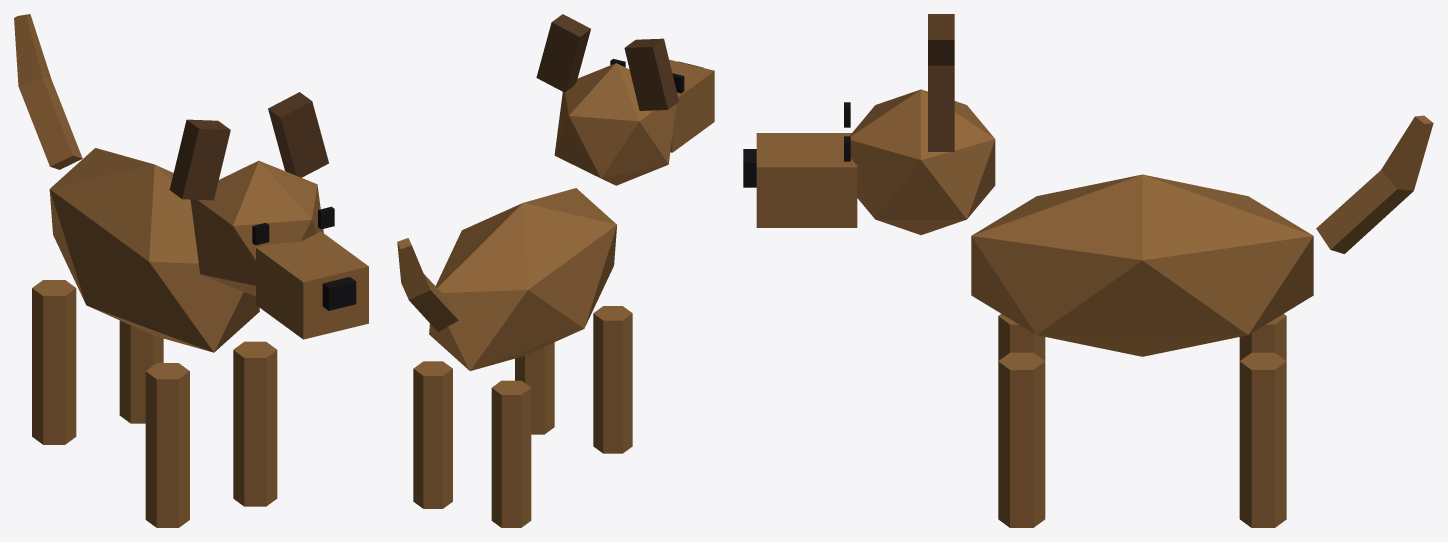
File: Perro.fbx
3 renders of one model, left to right at view 1: azimuth 30°, elevation 25°; view 2: azimuth 150°, elevation 25°; view 3: azimuth 270°, elevation 25°, orthographic. The views are drawn at different scales.
Visible parts, largest first — view 1: Perro; view 2: Perro; view 3: Perro.
Boxes of the visible parts, bbox=[...] form: Perro: bbox=[14, 14, 368, 527]; Perro: bbox=[397, 14, 714, 527]; Perro: bbox=[743, 14, 1433, 527].
Size of the model in its own units: 0.269 by 0.7457 by 1.03.
